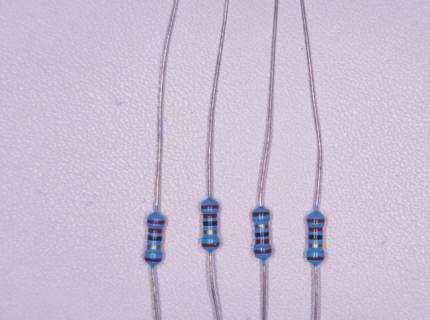Black band: (147, 235, 162, 241), (202, 221, 218, 226), (308, 235, 323, 240), (255, 232, 269, 237)
Brown band: (144, 257, 162, 262), (252, 212, 270, 217), (201, 243, 220, 247), (306, 257, 324, 260)
Gold band: (308, 243, 323, 248), (147, 244, 161, 249), (255, 224, 269, 229), (203, 230, 217, 234)
Red band: (147, 219, 166, 224), (253, 249, 272, 254), (148, 227, 163, 233), (255, 238, 270, 244), (307, 218, 325, 223), (201, 205, 219, 209), (203, 214, 217, 219), (308, 227, 323, 231)
